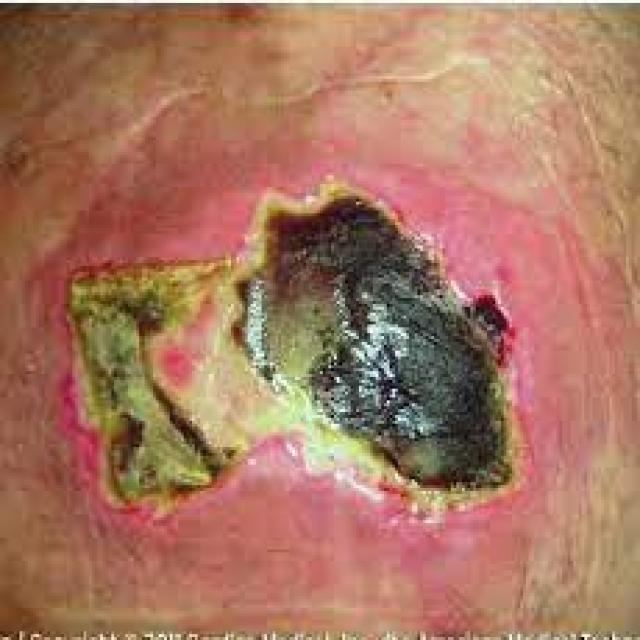Unstageable: (65, 179, 529, 517)
